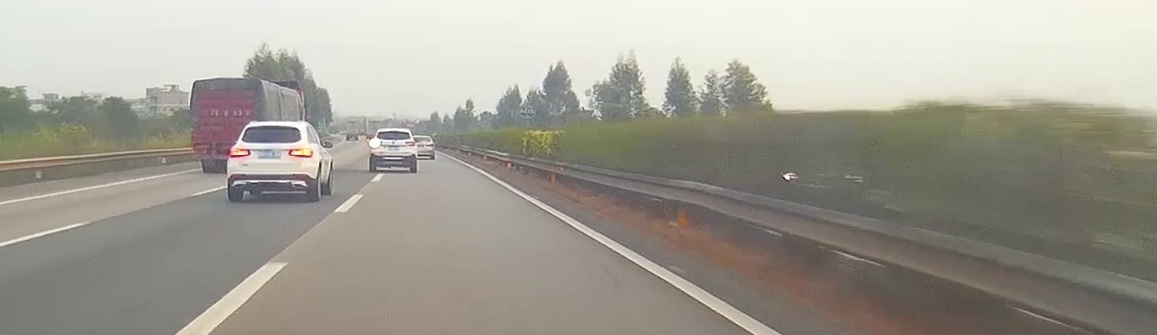L_light: (229, 148, 252, 158), (369, 140, 382, 146)
R_light: (288, 148, 313, 158), (405, 141, 416, 146)
T_light: (262, 125, 289, 128), (389, 130, 400, 133)
day-left: (369, 128, 417, 173)
day-no: (226, 121, 318, 202)
